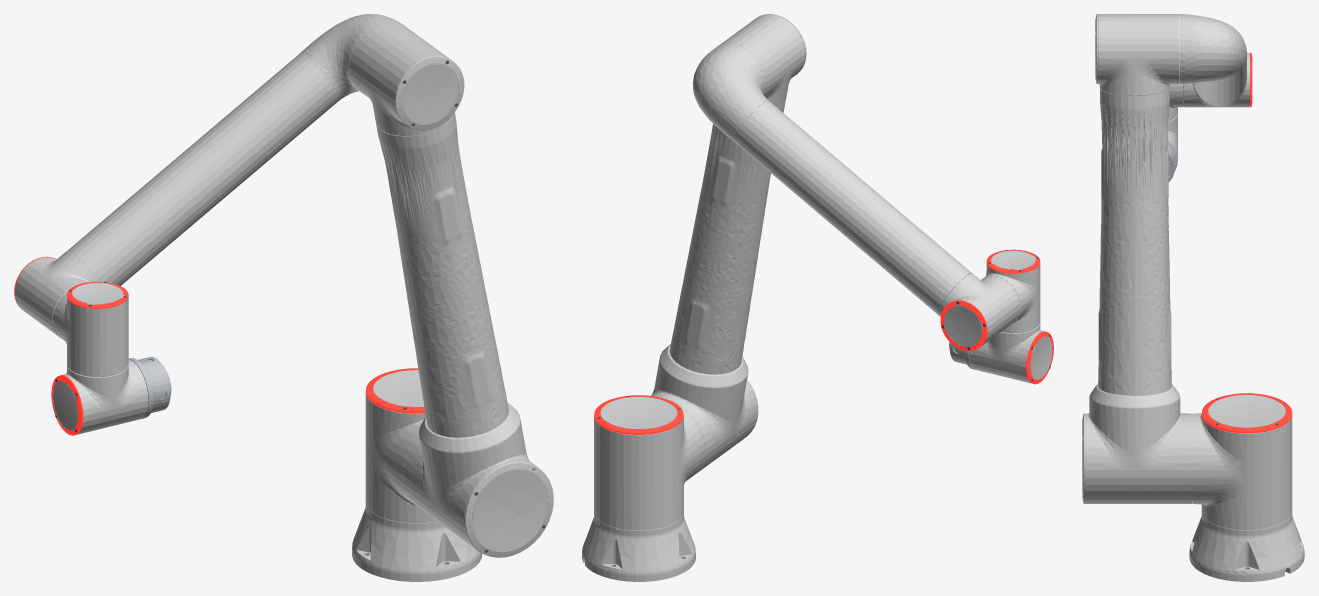
The picture shows the model from 3 angles, left to right: view 1: azimuth 30°, elevation 25°; view 2: azimuth 150°, elevation 25°; view 3: azimuth 270°, elevation 25°; orthographic projection. The views are drawn at different scales.
Visible parts, largest first — view 1: Link_2_UpperArm_fr5_white_gloss, Link_3_Forearm_fr5_white_gloss, Link_1_Shoulder_fr5_white_gloss, Link_0_Base_fr5_white_gloss, Link_4_Wrist1_fr5_white_gloss, Link_5_Wrist2_fr5_white_gloss, Link_6_Flange_fr5_flange_alu, Link_1_Shoulder_fr5_led_ring; view 2: Link_2_UpperArm_fr5_white_gloss, Link_3_Forearm_fr5_white_gloss, Link_1_Shoulder_fr5_white_gloss, Link_0_Base_fr5_white_gloss, Link_5_Wrist2_fr5_white_gloss, Link_4_Wrist1_fr5_white_gloss, Link_1_Shoulder_fr5_led_ring, Link_3_Forearm_fr5_led_ring; view 3: Link_2_UpperArm_fr5_white_gloss, Link_1_Shoulder_fr5_white_gloss, Link_3_Forearm_fr5_white_gloss, Link_0_Base_fr5_white_gloss, Link_1_Shoulder_fr5_led_ring, Link_4_Wrist1_fr5_white_gloss, Link_6_Flange_fr5_flange_alu.
Boxes of the visible parts, box(x1,y1,x2,y2) form: Link_2_UpperArm_fr5_white_gloss: box(349, 22, 553, 557); Link_3_Forearm_fr5_white_gloss: box(14, 14, 405, 337); Link_1_Shoulder_fr5_white_gloss: box(365, 370, 437, 523); Link_0_Base_fr5_white_gloss: box(352, 502, 482, 581); Link_4_Wrist1_fr5_white_gloss: box(52, 282, 128, 376); Link_5_Wrist2_fr5_white_gloss: box(53, 359, 148, 434); Link_6_Flange_fr5_flange_alu: box(129, 356, 171, 418); Link_1_Shoulder_fr5_led_ring: box(366, 368, 424, 413); Link_2_UpperArm_fr5_white_gloss: box(651, 14, 806, 475); Link_3_Forearm_fr5_white_gloss: box(692, 44, 1020, 347); Link_1_Shoulder_fr5_white_gloss: box(594, 396, 704, 530); Link_0_Base_fr5_white_gloss: box(582, 512, 695, 581); Link_5_Wrist2_fr5_white_gloss: box(969, 323, 1052, 383); Link_4_Wrist1_fr5_white_gloss: box(983, 250, 1040, 333); Link_1_Shoulder_fr5_led_ring: box(594, 395, 683, 434); Link_3_Forearm_fr5_led_ring: box(940, 300, 987, 350); Link_2_UpperArm_fr5_white_gloss: box(1082, 14, 1192, 503); Link_1_Shoulder_fr5_white_gloss: box(1192, 394, 1292, 529); Link_3_Forearm_fr5_white_gloss: box(1179, 14, 1252, 107); Link_0_Base_fr5_white_gloss: box(1189, 512, 1304, 581); Link_1_Shoulder_fr5_led_ring: box(1201, 393, 1292, 433); Link_4_Wrist1_fr5_white_gloss: box(1168, 53, 1183, 121); Link_6_Flange_fr5_flange_alu: box(1167, 139, 1177, 182).
Bounding box in the file's own units: 0.778 × 0.9274 × 0.3667.
